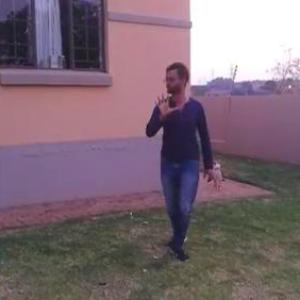follow_hand: (151, 92, 180, 118)
